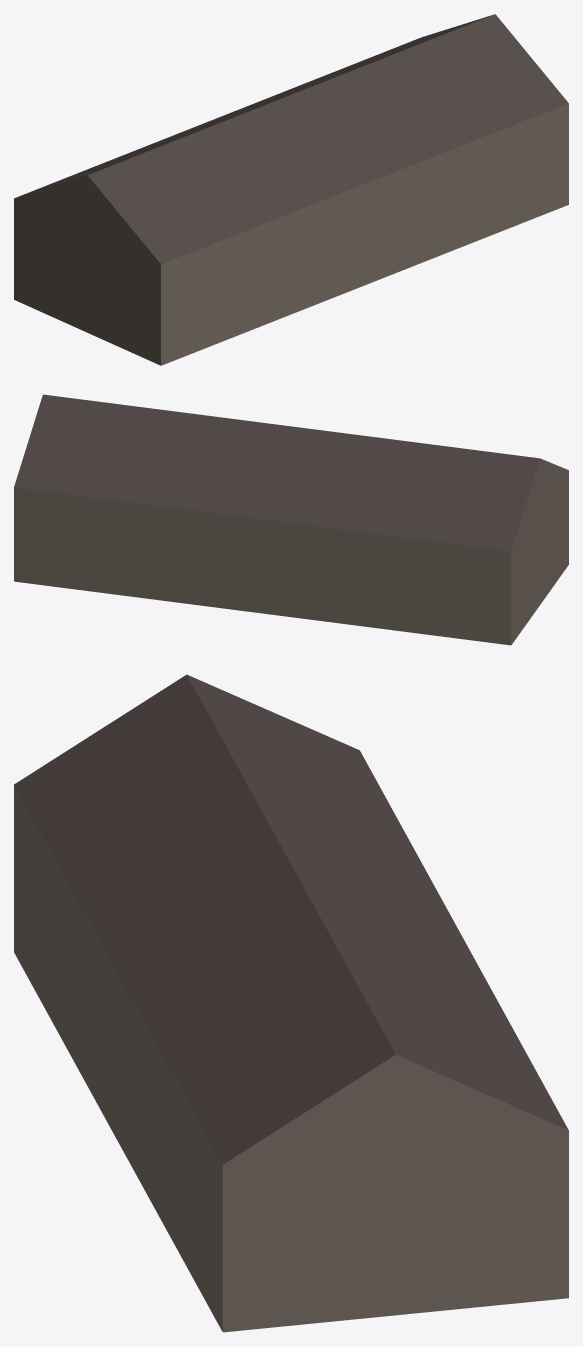
3 renders of one model, top to bottom at view 1: azimuth 30°, elevation 25°; view 2: azimuth 150°, elevation 25°; view 3: azimuth 270°, elevation 25°, orthographic. The views are drawn at different scales.
Visible parts, largest first — view 1: HP-w859457333; view 2: HP-w859457333; view 3: HP-w859457333.
Boxes of the visible parts, x1,y1,x2,y2 form: HP-w859457333: (14,14,568,365); HP-w859457333: (14,394,568,645); HP-w859457333: (14,674,568,1332).
Bounding box in the file's own units: 31.83 × 9.33 × 18.01.
